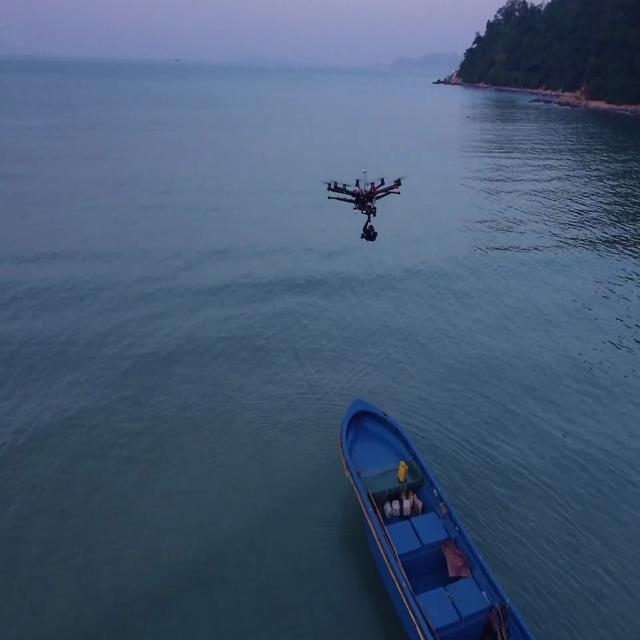drone: (326, 139, 414, 246)
